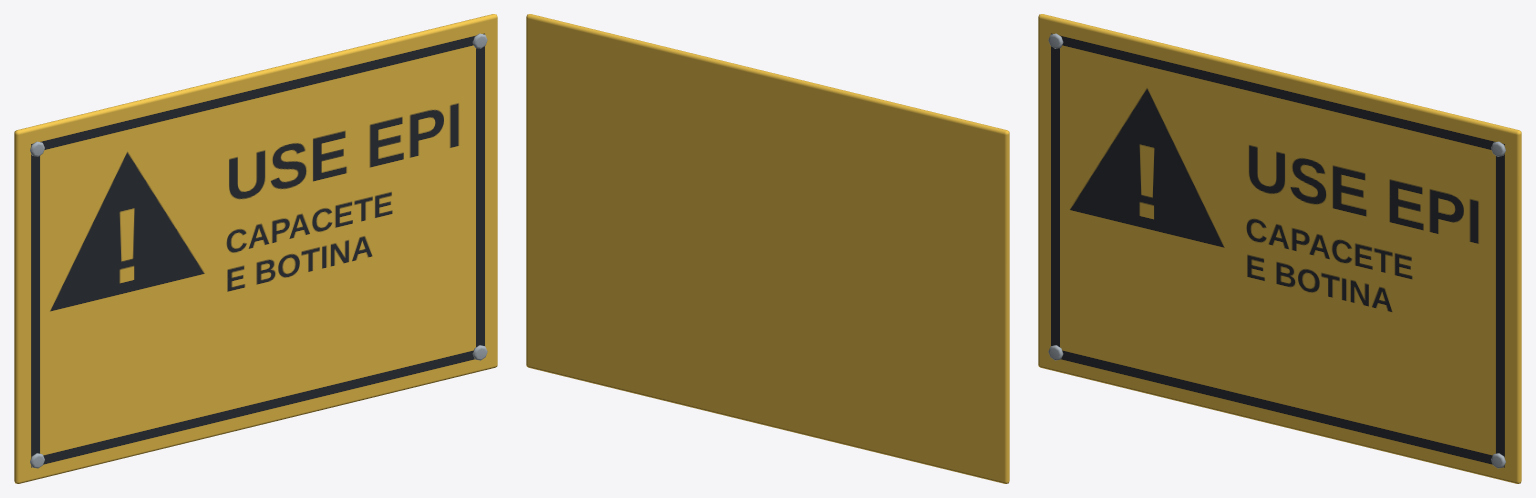
The model's file is placa_parede.glb.
The picture shows the model from 3 angles, left to right: view 1: azimuth 30°, elevation 25°; view 2: azimuth 150°, elevation 25°; view 3: azimuth 330°, elevation 25°; orthographic projection.
Parts seen in each view (by area): view 1: face, chapa; view 2: chapa; view 3: face, chapa.
Part boxes in pixels (<box>): face: <box>24,25,491,475</box>; chapa: <box>14,14,497,483</box>; chapa: <box>526,14,1009,483</box>; face: <box>1044,25,1511,475</box>; chapa: <box>1038,14,1521,483</box>.
Size of the model in its own units: 0.6 by 0.42 by 0.013.
3 materials, 1 textured.
